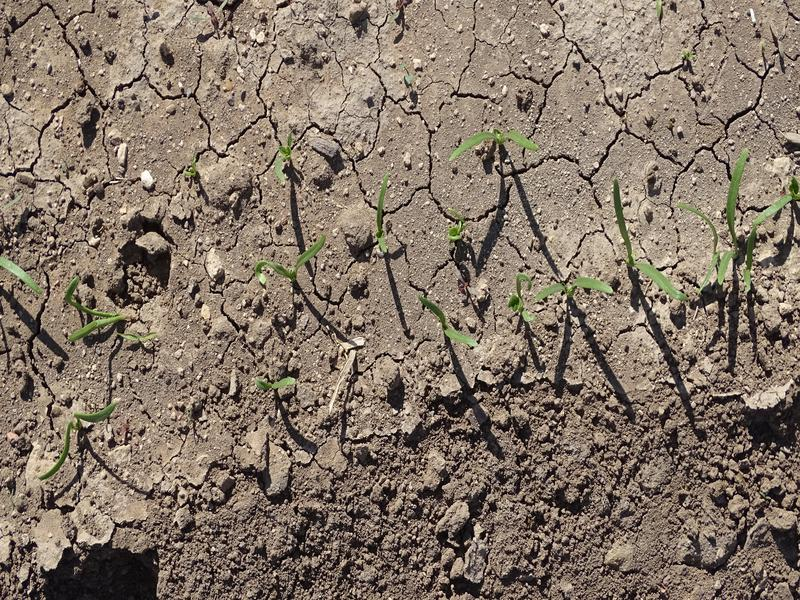Espinaca: (709, 152, 785, 294), (612, 175, 690, 301), (47, 392, 122, 475), (55, 278, 133, 332), (452, 123, 546, 166), (415, 296, 479, 350), (255, 235, 335, 278), (533, 268, 620, 300), (266, 136, 305, 184), (370, 175, 394, 251), (1, 264, 47, 298), (257, 370, 293, 394)
